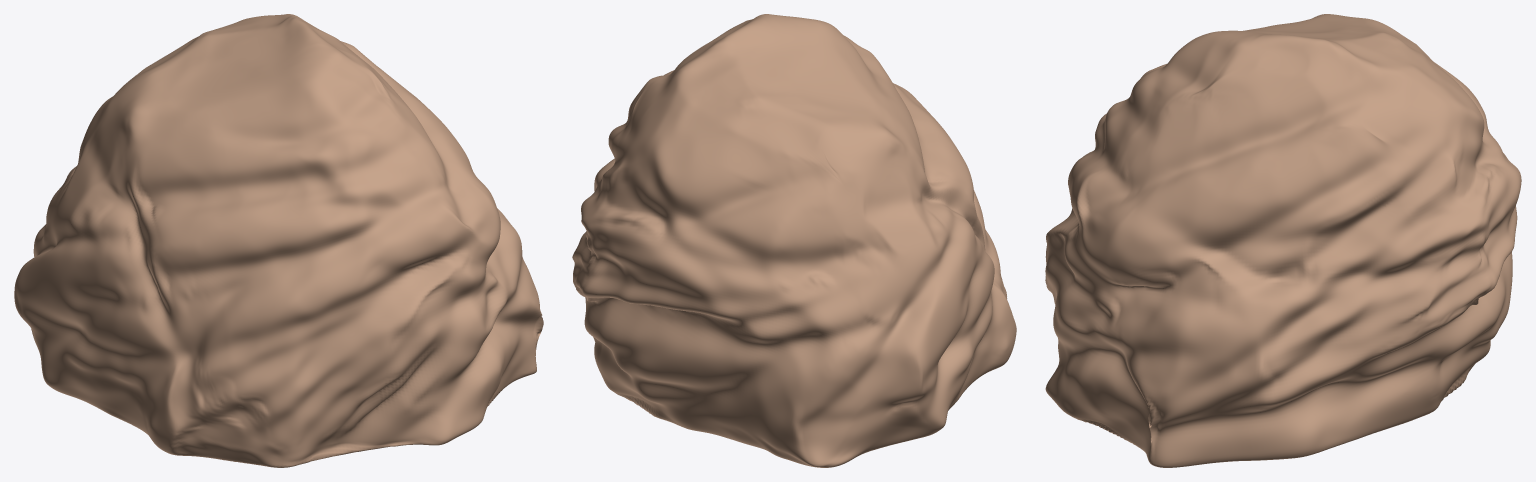
The model's file is rock.fbx.
The picture shows the model from 3 angles, left to right: view 1: azimuth 30°, elevation 25°; view 2: azimuth 150°, elevation 25°; view 3: azimuth 270°, elevation 25°; orthographic projection. The views are drawn at different scales.
Parts seen in each view (by area): view 1: cube; view 2: cube; view 3: cube.
Boxes of the visible parts, x1,y1,x2,y2 form: cube: (14,14,543,467); cube: (572,14,1016,467); cube: (1045,14,1521,467).
Bounding box in the file's own units: 154 × 120 × 149.
